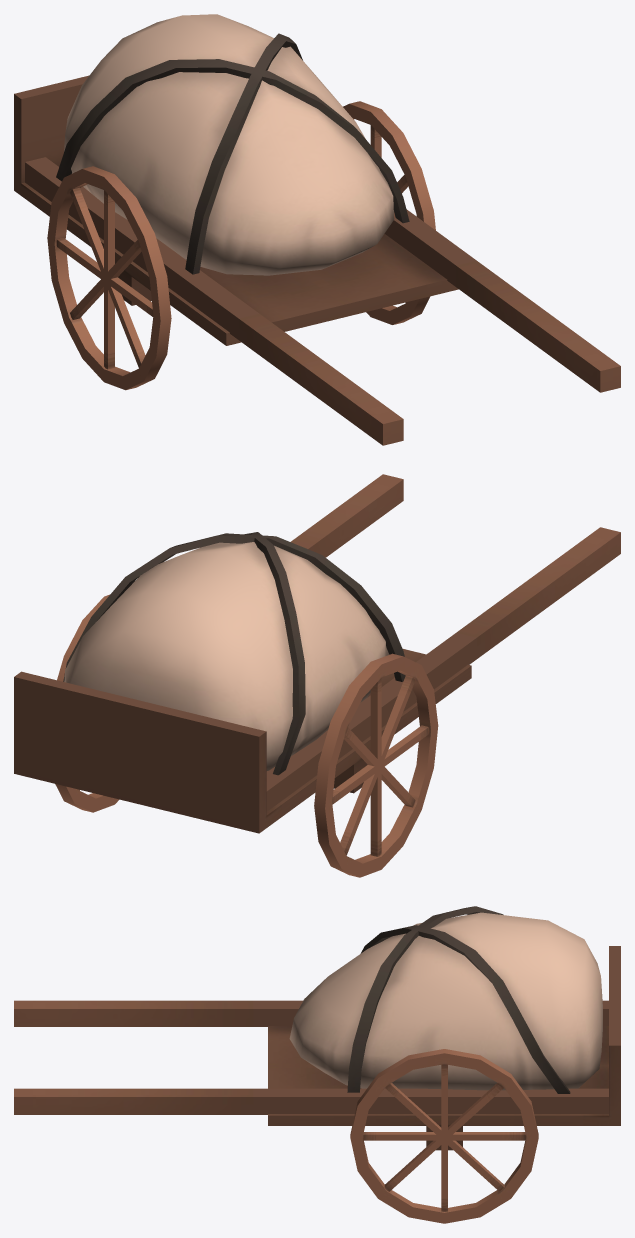
The model's file is cartWithLoad.fbx.
3 renders of one model, top to bottom at view 1: azimuth 30°, elevation 25°; view 2: azimuth 150°, elevation 25°; view 3: azimuth 270°, elevation 25°, orthographic. The views are drawn at different scales.
Parts seen in each view (by area): view 1: cartLoad, cart, cartWheels; view 2: cartLoad, cart, cartWheels; view 3: cartLoad, cart, cartWheels.
Boxes of the visible parts, x1=… form: cartLoad: x1=56, y1=14, x2=409, y2=275; cart: x1=14, y1=75, x2=620, y2=445; cartWheels: x1=47, y1=101, x2=435, y2=390; cartLoad: x1=63, y1=532, x2=405, y2=775; cart: x1=14, y1=474, x2=620, y2=833; cartWheels: x1=55, y1=594, x2=438, y2=877; cartLoad: x1=289, y1=906, x2=602, y2=1093; cart: x1=14, y1=946, x2=620, y2=1150; cartWheels: x1=350, y1=1049, x2=538, y2=1223.
Bounding box in the file's own units: 2.26 × 2.32 × 5.16.
